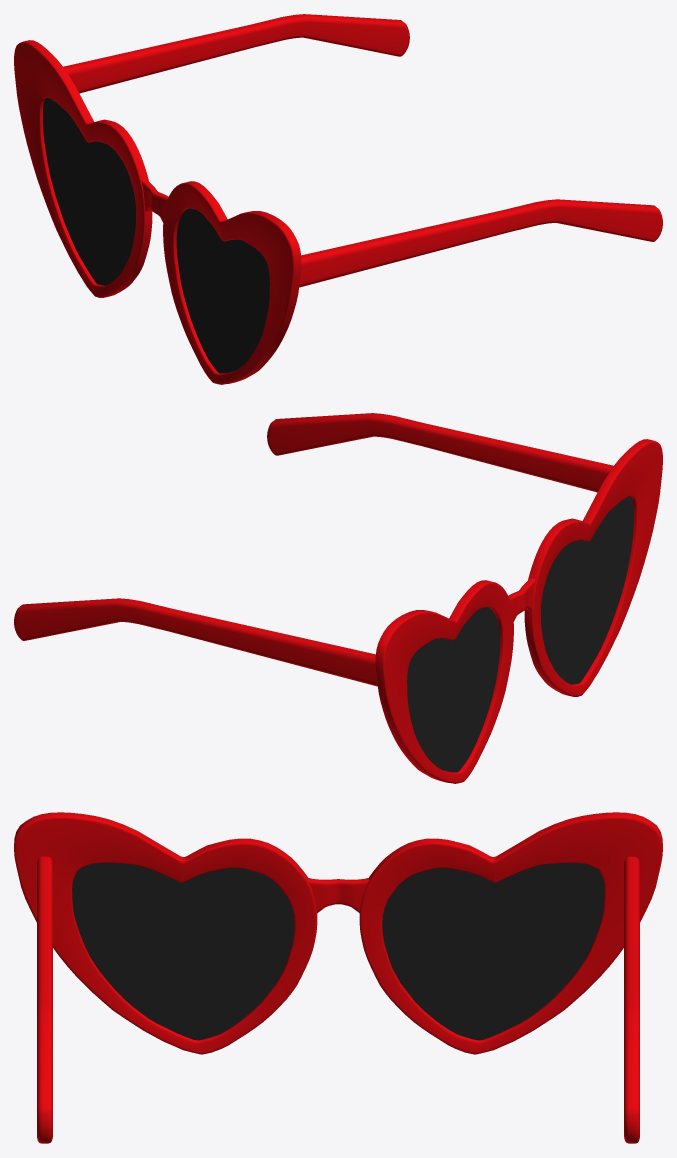
File: heart_glasses_red.glb
3 renders of one model, top to bottom at view 1: azimuth 30°, elevation 25°; view 2: azimuth 150°, elevation 25°; view 3: azimuth 270°, elevation 25°, orthographic. The views are drawn at different scales.
Parts seen in each view (by area): view 1: armor, glass; view 2: armor, glass; view 3: glass, armor.
Boxes of the visible parts, x1,y1,x2,y2 form: armor: (14,14,662,384); glass: (43,97,269,373); armor: (14,413,662,783); glass: (407,496,633,772); glass: (72,863,604,1040); armor: (14,812,662,1143).
Bounding box in the file's own units: 1.95 × 1 × 2.48.
